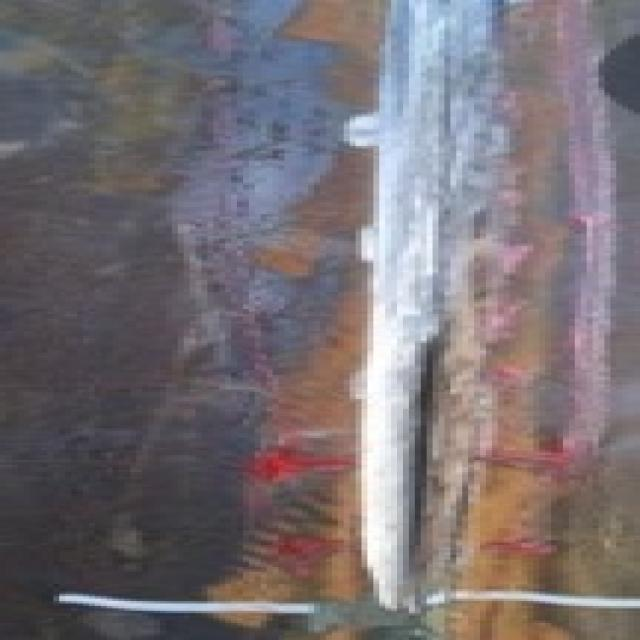Good Welding: (314, 0, 474, 608)
